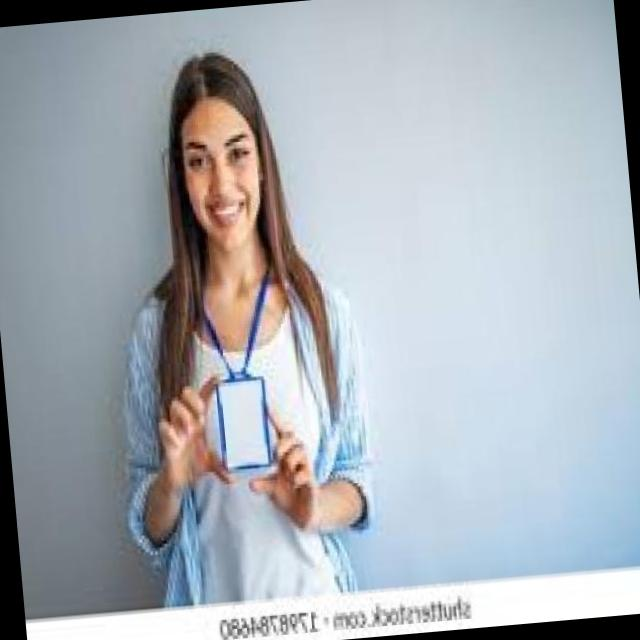id_card: (185, 265, 291, 478)
